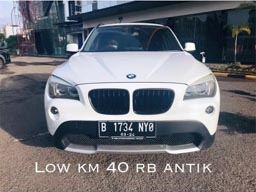plat: (98, 122, 158, 131)
